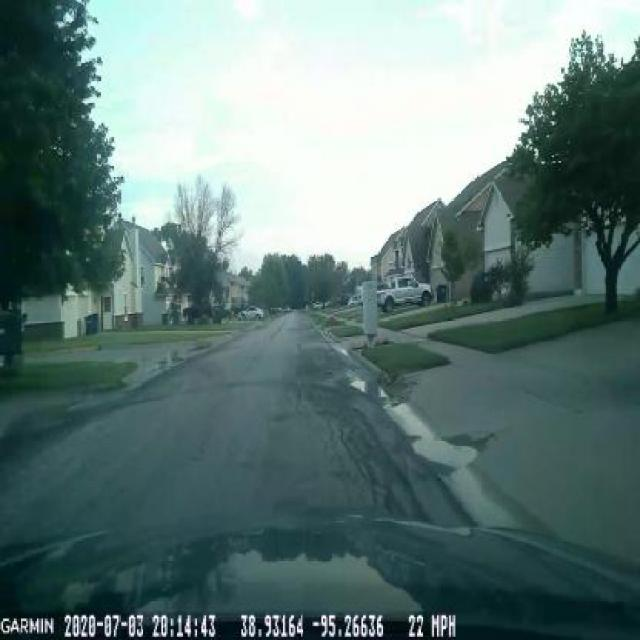Pothole: (339, 361, 412, 413)
